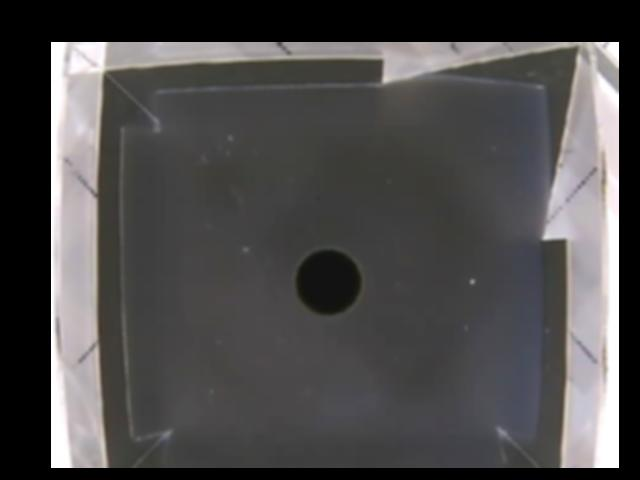Bottle: (293, 247, 364, 314)
